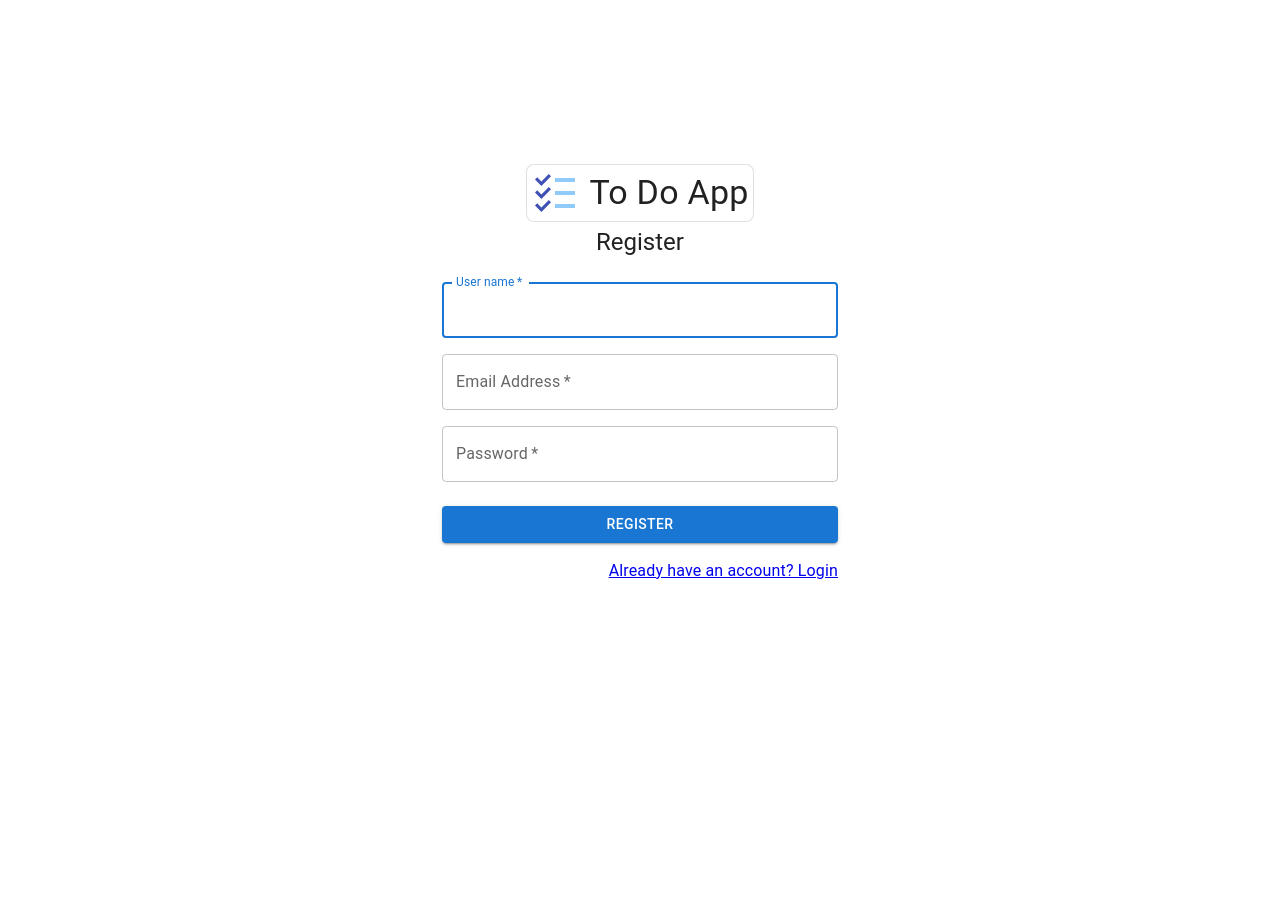
Test: Register Component › should show error message on registration failure
Type "testuser" into the field labelled "User name *" at point(640, 310), box top-left (442, 282), bottom-right (838, 338)
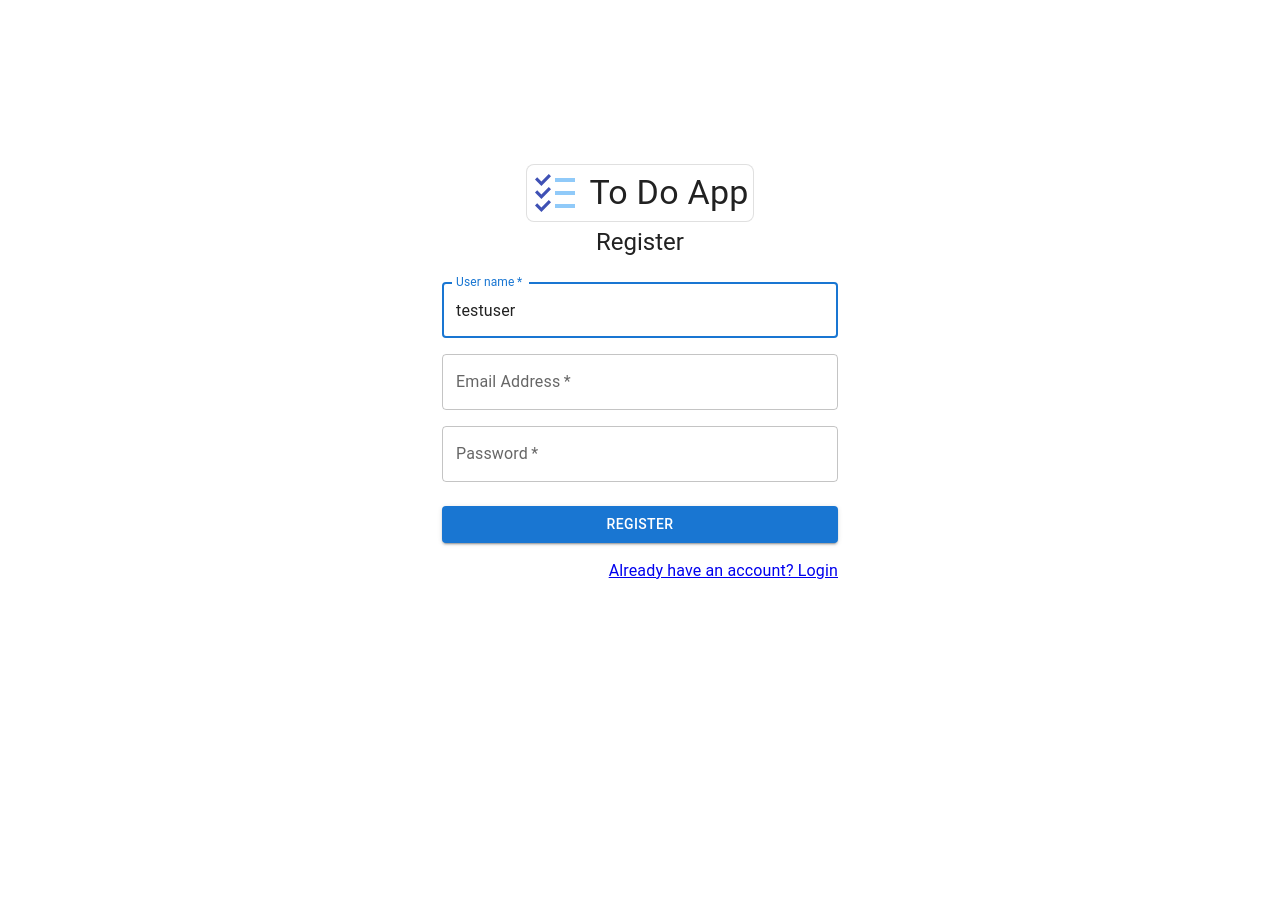
Type "test@example.com" into the field labelled "Email Address *" at point(640, 382), box top-left (442, 354), bottom-right (838, 410)
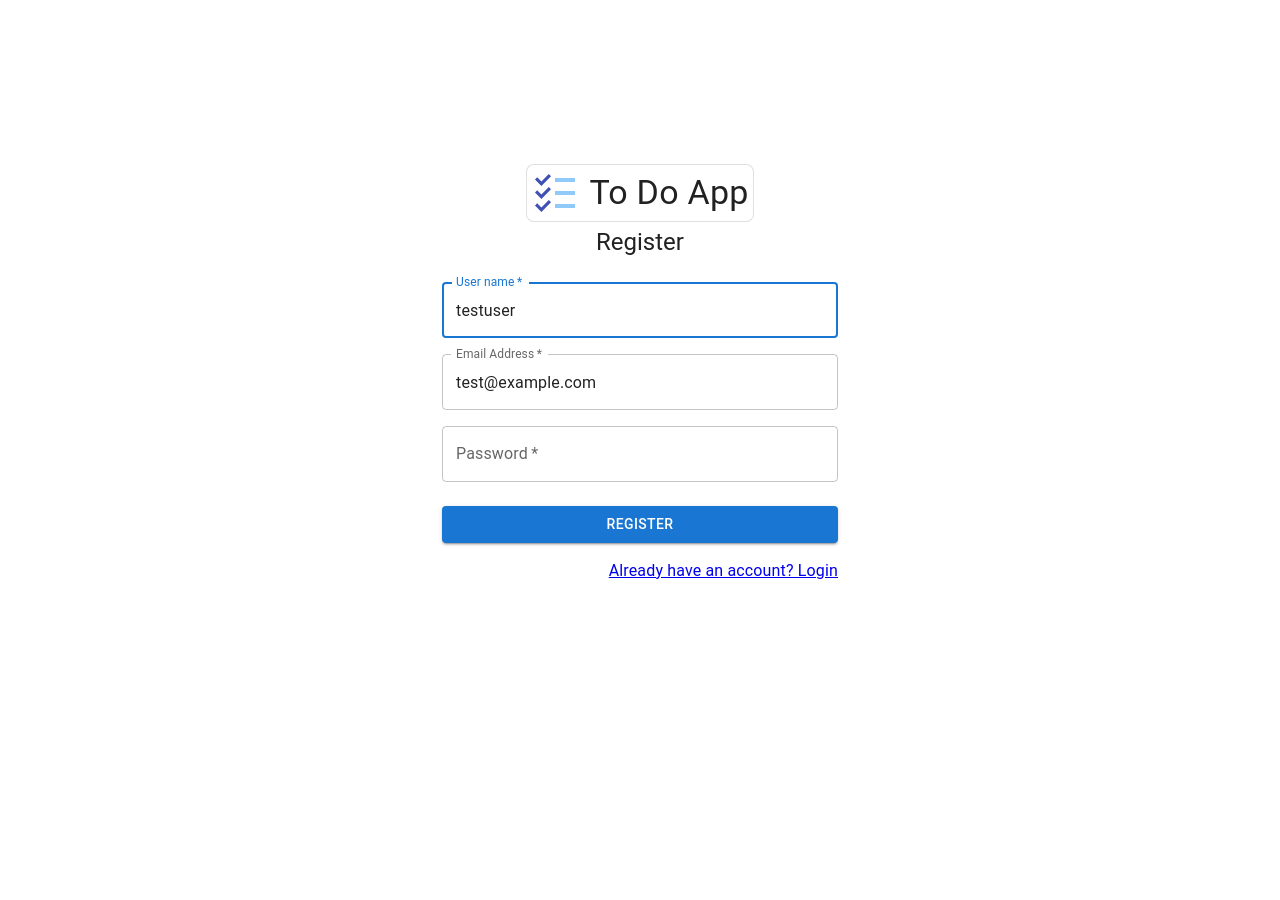
Type "password" into the password field labelled "Password *" at point(640, 454), box top-left (442, 426), bottom-right (838, 482)
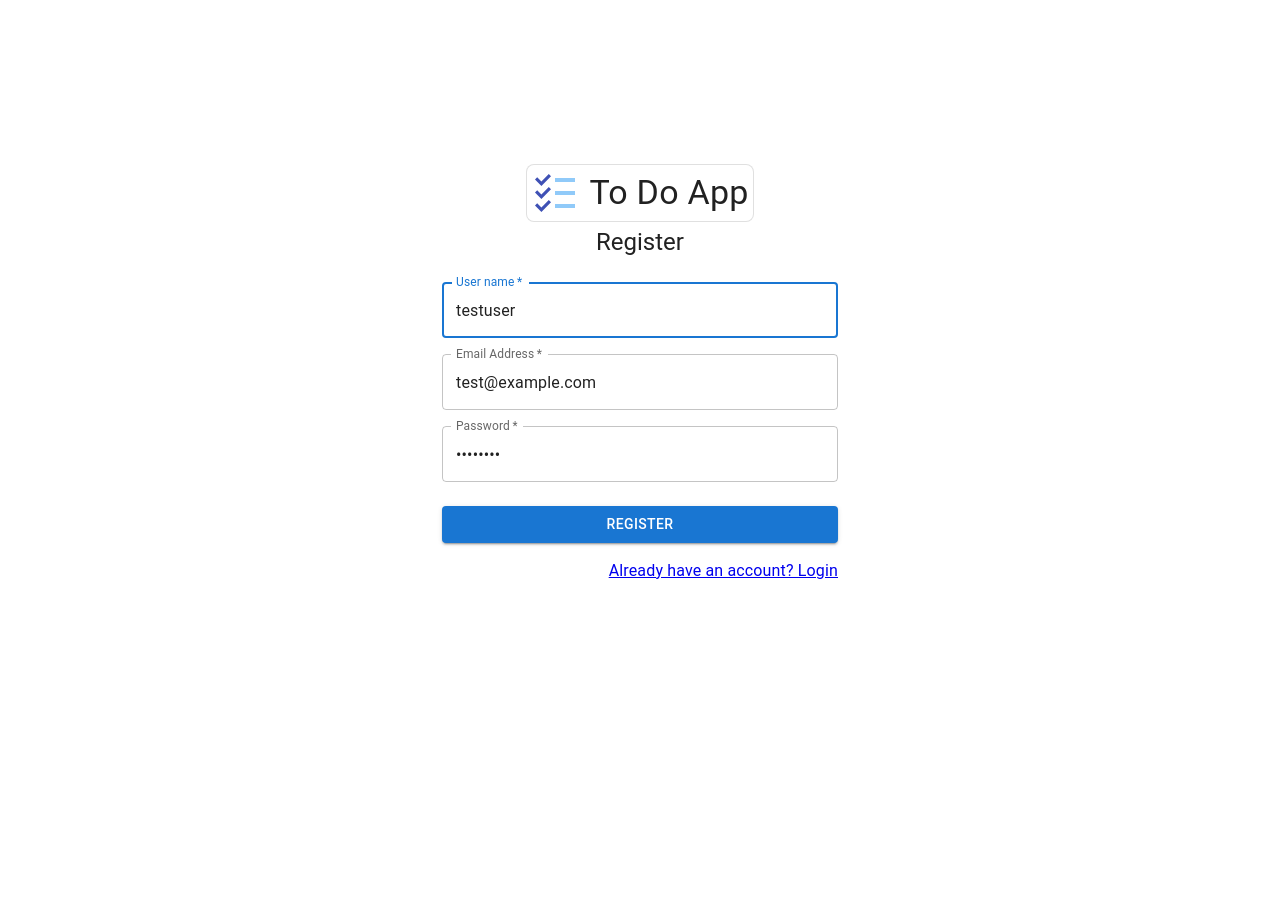
Click the button "Register" at point(640, 524), box top-left (442, 506), bottom-right (838, 542)
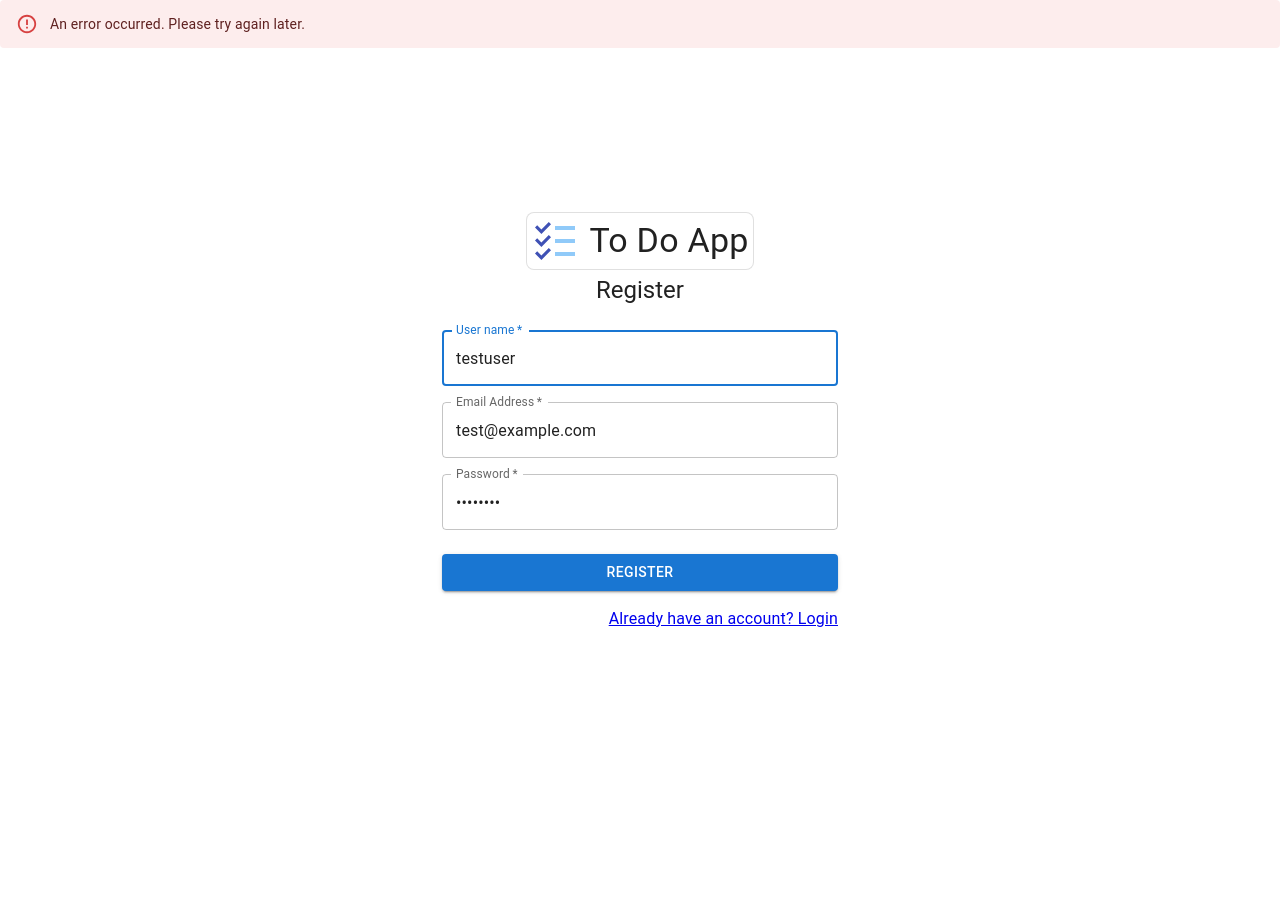
Check: the text "An error occurred. Please try again later." is shown, box top-left (50, 16), bottom-right (305, 32)
